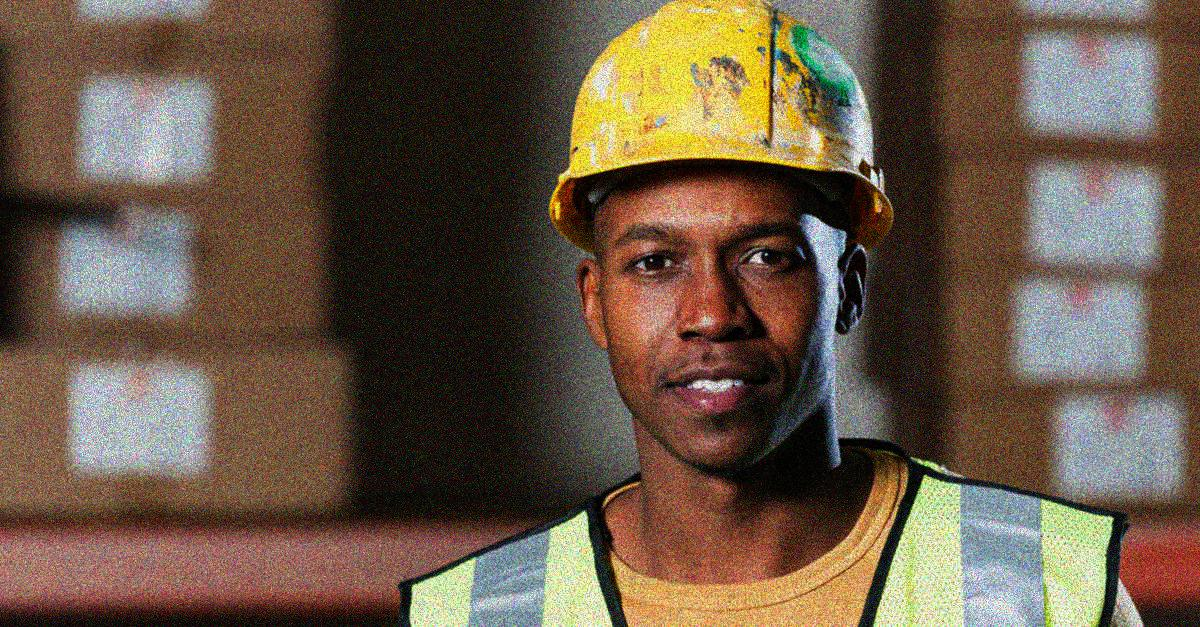helmet: (545, 1, 900, 470)
